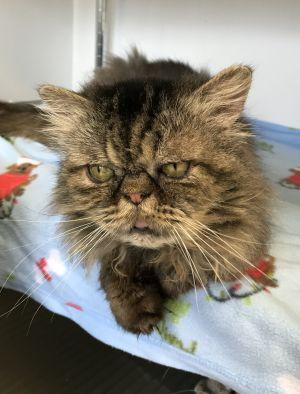persian: (35, 58, 257, 257)
